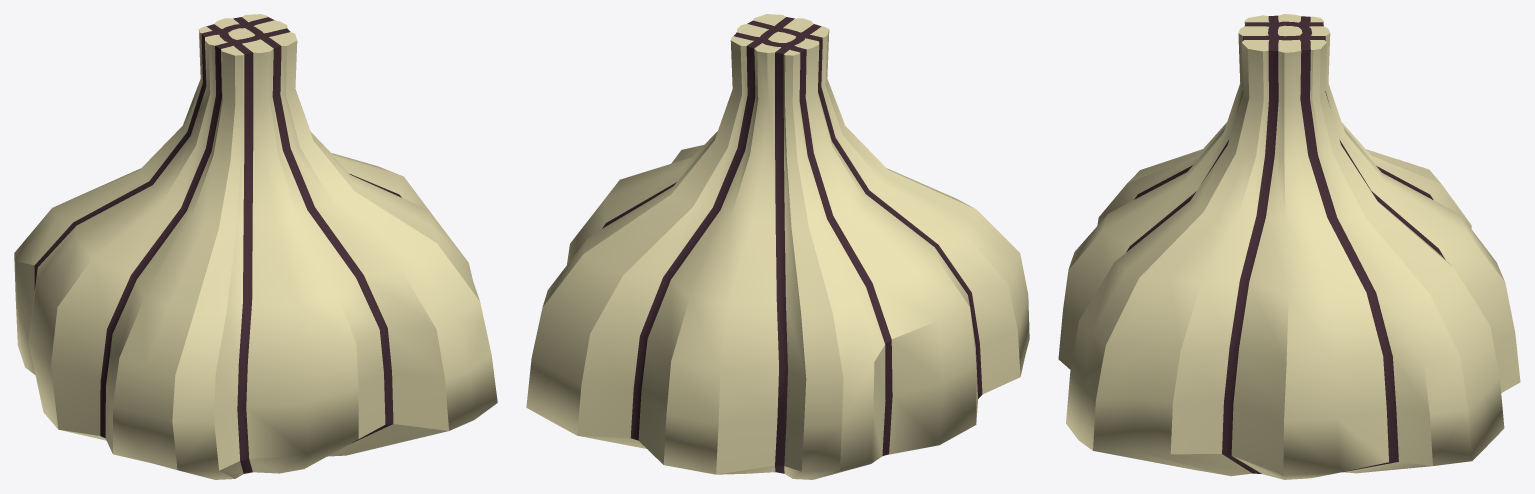
The model's file is garlic.fbx.
The picture shows the model from 3 angles, left to right: view 1: azimuth 30°, elevation 25°; view 2: azimuth 150°, elevation 25°; view 3: azimuth 270°, elevation 25°; orthographic projection.
Visible parts, largest first — view 1: garlic; view 2: garlic; view 3: garlic.
Boxes of the visible parts, x1,y1,x2,y2 form: garlic: (14, 14, 497, 479); garlic: (526, 14, 1029, 479); garlic: (1058, 14, 1520, 479).
Size of the model in its own units: 423 by 400 by 421.
